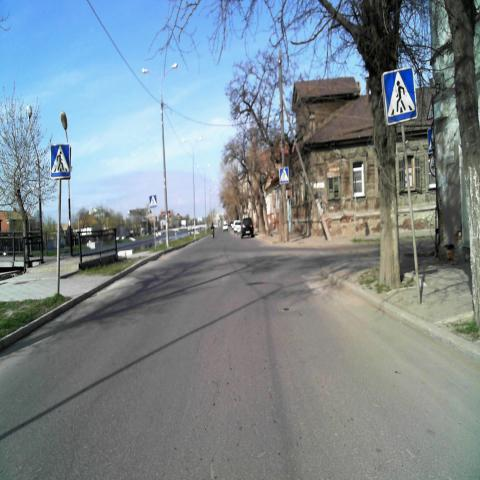5_19_1: (384, 68, 418, 123), (51, 144, 71, 180), (279, 167, 289, 185), (149, 194, 157, 209)
